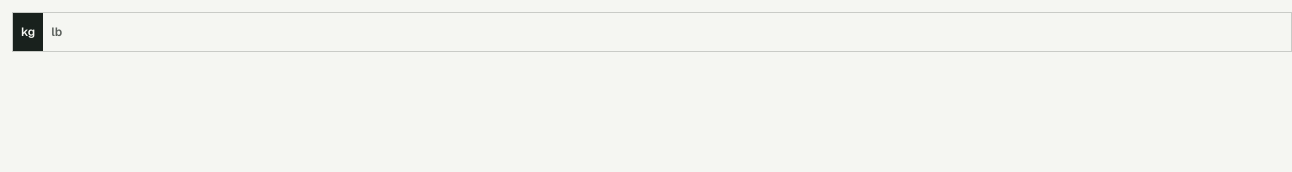
Test: WeightUnitSwitch › tells the user when the unit could not be changed
Click the button "lb": (57, 32) top-left (43, 13), bottom-right (70, 51)
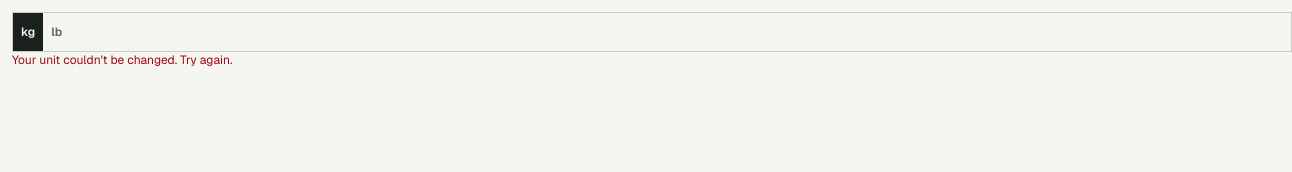
Expected: the message shows "couldn't be changed", top-left (12, 52), bottom-right (232, 68)
